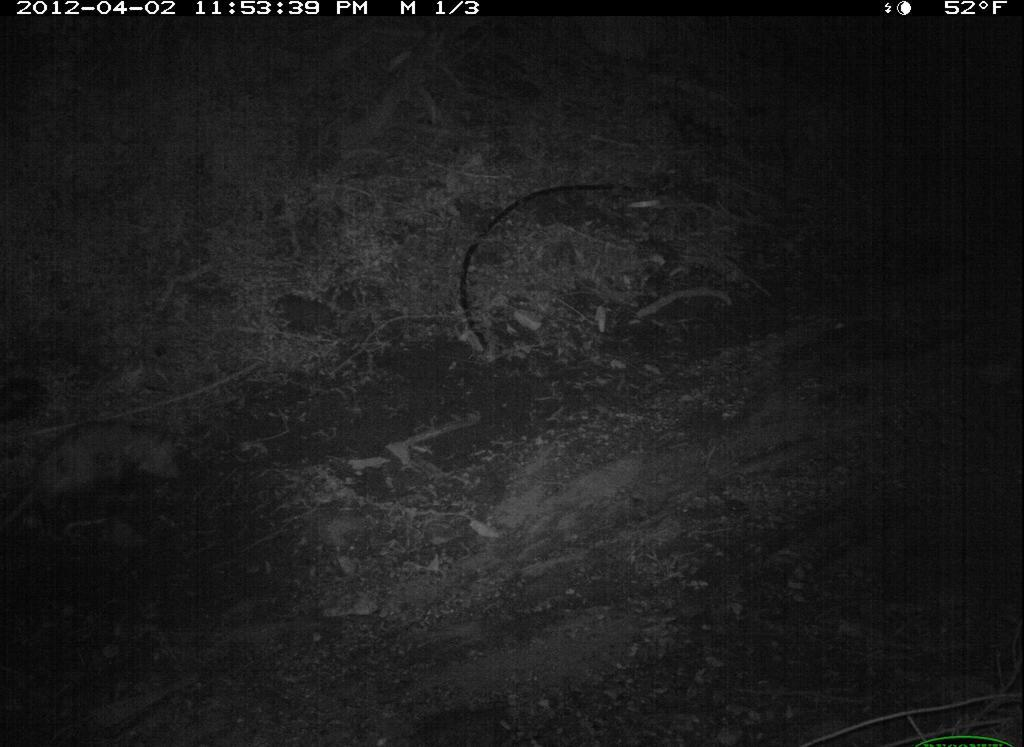opossum: (6, 411, 190, 539)
